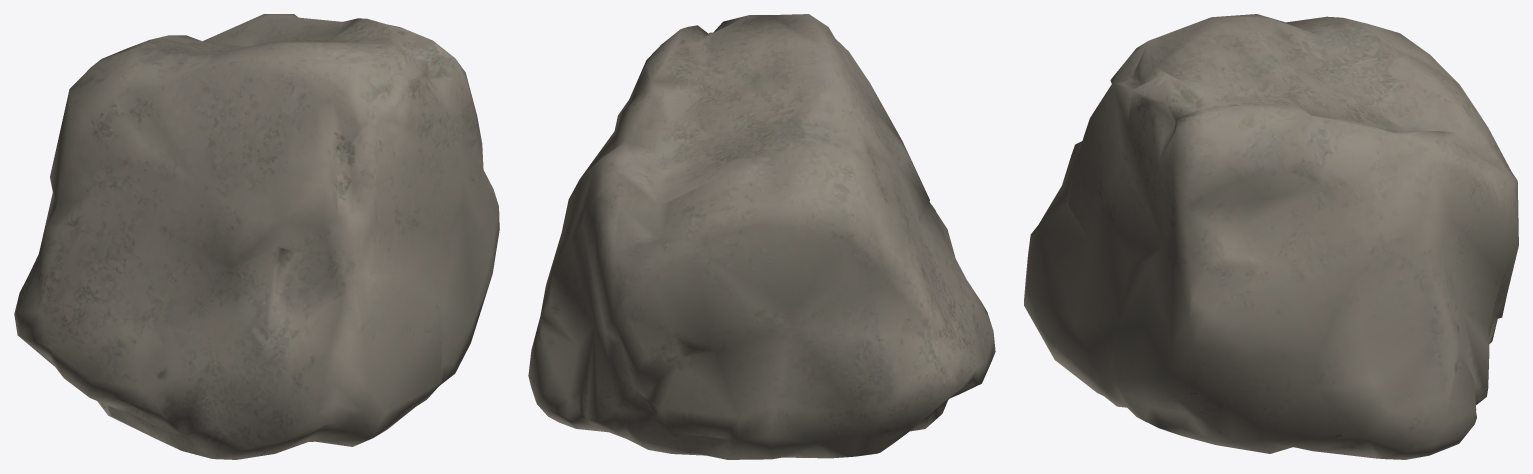
The model's file is moon_rock_02.glb.
3 renders of one model, left to right at view 1: azimuth 30°, elevation 25°; view 2: azimuth 150°, elevation 25°; view 3: azimuth 270°, elevation 25°, orthographic. The views are drawn at different scales.
Visible parts, largest first — view 1: moon_rock_02_LOD0; view 2: moon_rock_02_LOD0; view 3: moon_rock_02_LOD0.
Boxes of the visible parts, <box> form: moon_rock_02_LOD0: <box>14,14,499,459</box>; moon_rock_02_LOD0: <box>528,14,995,459</box>; moon_rock_02_LOD0: <box>1024,14,1518,459</box>.
Bounding box in the file's own units: 0.2452 × 0.2019 × 0.2513.
1 material, 1 textured.
